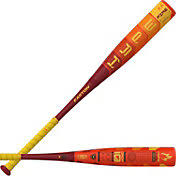baseball bat: (1, 1, 176, 176), (1, 146, 175, 167)
